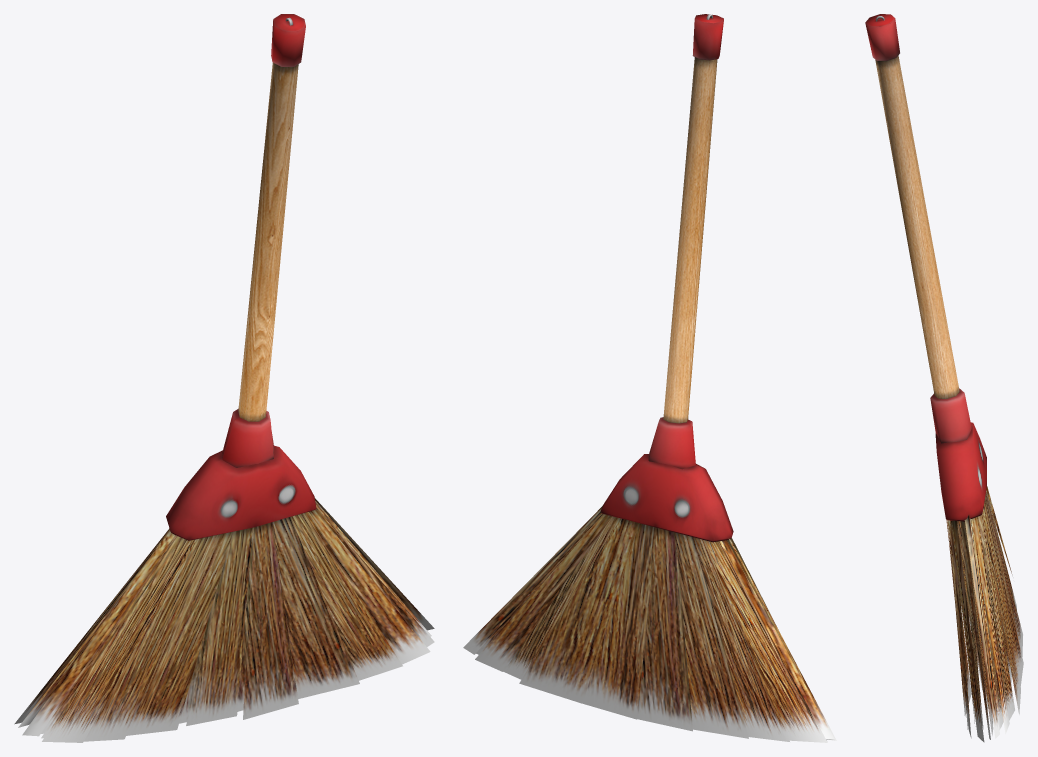
The picture shows the model from 3 angles, left to right: view 1: azimuth 30°, elevation 25°; view 2: azimuth 150°, elevation 25°; view 3: azimuth 270°, elevation 25°; orthographic projection. The views are drawn at different scales.
Visible parts, largest first — view 1: tz; view 2: tz; view 3: tz.
Part boxes in pixels (<box>): tz: <box>14,14,434,742</box>; tz: <box>463,14,836,742</box>; tz: <box>865,14,1023,742</box>.
Size of the model in its own units: 8.97 by 15.18 by 3.33.
1 material, 1 textured.
